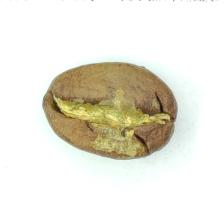NG: (50, 78, 169, 158)
